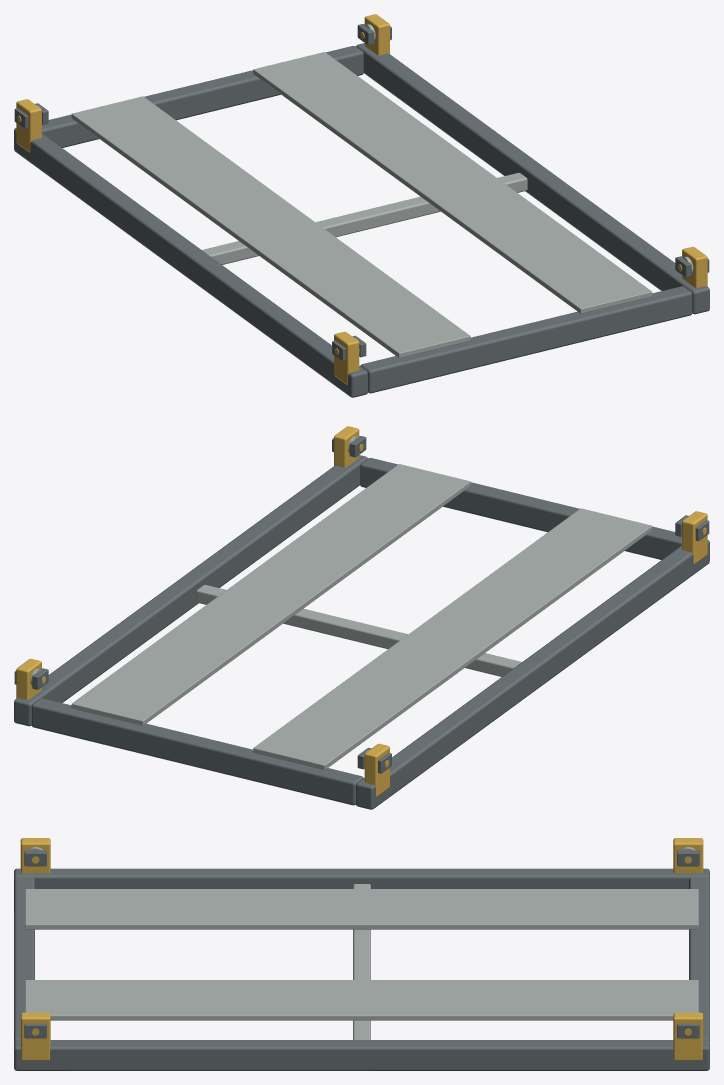
File: automated-parking-and-vehicle-retrieval-automated-park-10459ffa__30361.glb
The picture shows the model from 3 angles, top to bottom: view 1: azimuth 30°, elevation 25°; view 2: azimuth 150°, elevation 25°; view 3: azimuth 270°, elevation 25°; orthographic projection. The views are drawn at different scales.
Parts seen in each view (by area): view 1: automated-parking-and-vehicle-retrieval-vehicle-lift-carriag (×3); view 2: automated-parking-and-vehicle-retrieval-vehicle-lift-carriag (×3); view 3: automated-parking-and-vehicle-retrieval-vehicle-lift-carriag (×3).
Part boxes in pixels (<box>): automated-parking-and-vehicle-retrieval-vehicle-lift-carriag (×3): <box>14,14,709,397</box>; automated-parking-and-vehicle-retrieval-vehicle-lift-carriag (×3): <box>14,426,709,809</box>; automated-parking-and-vehicle-retrieval-vehicle-lift-carriag (×3): <box>14,838,709,1070</box>.
Bounding box in the file's own units: 2.92 × 0.4 × 4.65.
